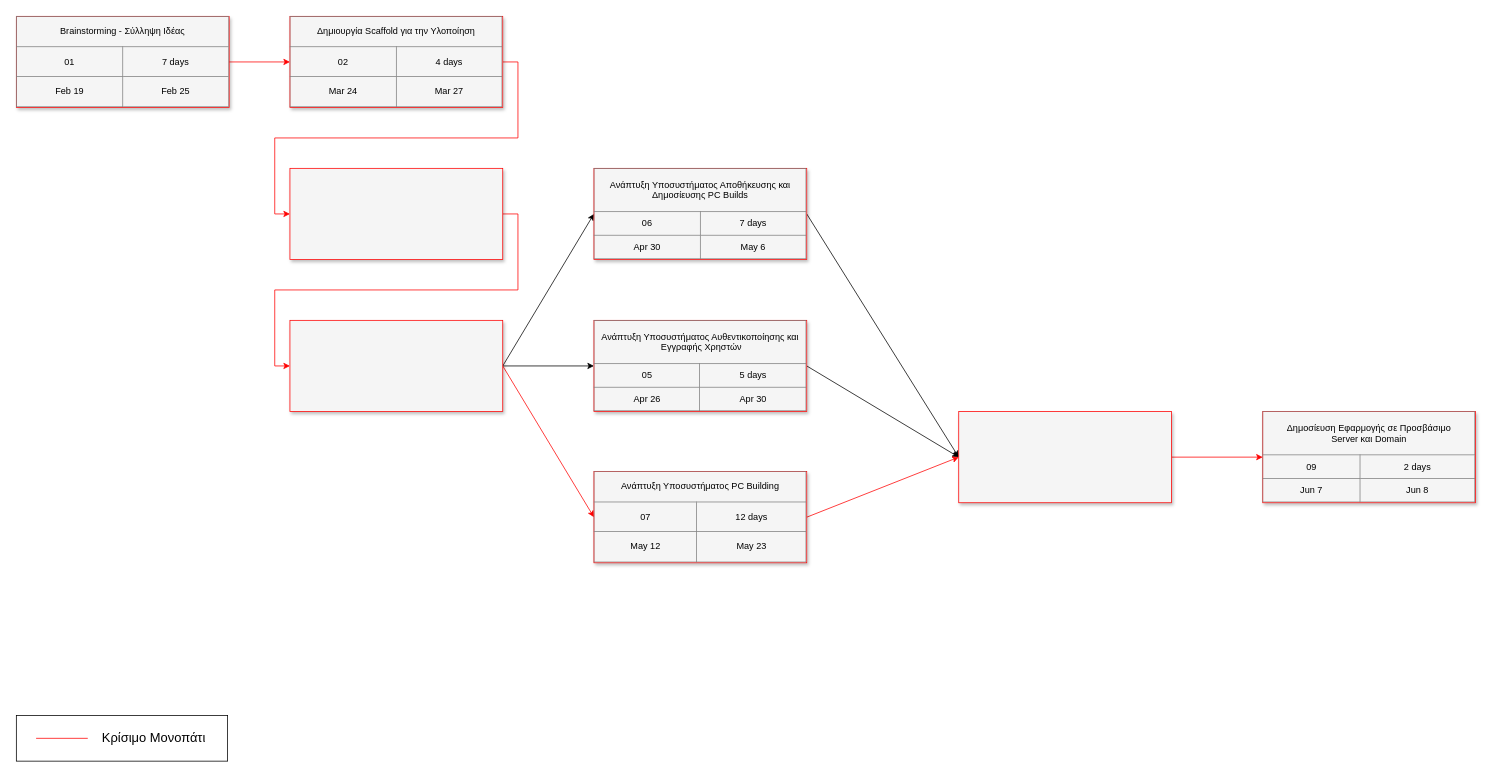
The diagram is 1493 pixels wide and 774 high, and some of its shapes have lost their labels. Each missing label, with the centre of its shape:
"Ανάλυση Λειτουργιών και Features 03 7 days Feb 26 Mar 4" goes at pixel 396 215.
"Ανάπτυξη Βάσης Δεδομένων 04 5 days Apr 12 Apr 16" goes at pixel 396 367.
"Ολοκλήρωση Υλοποίησης και Συνένωση Υποσυστημάτων 08 5 days Jun 2 Jun 6" goes at pixel 1065 458.
